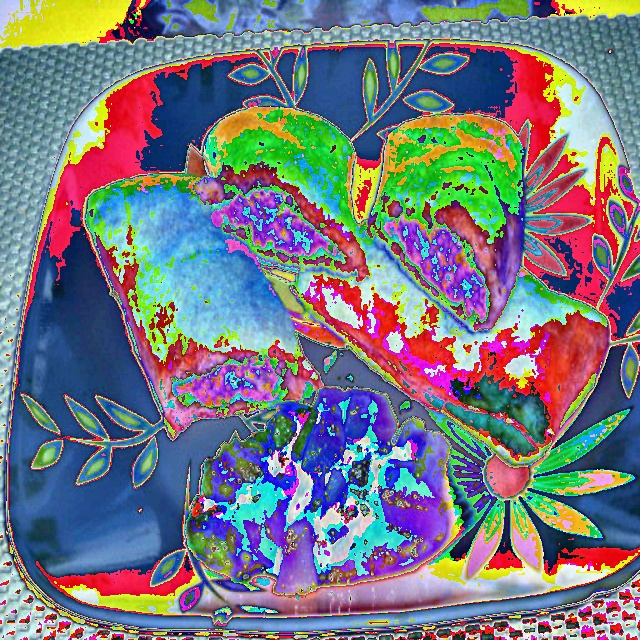background: (83, 105, 609, 593)
